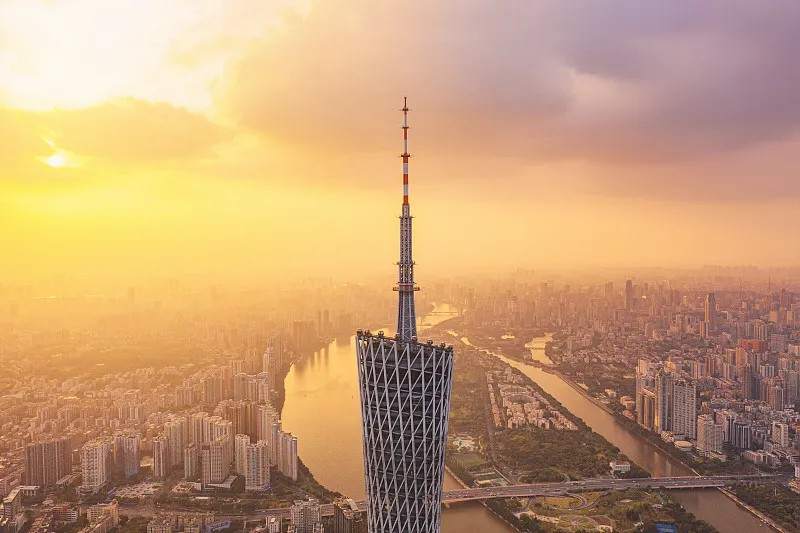Canton: (354, 94, 452, 533)
